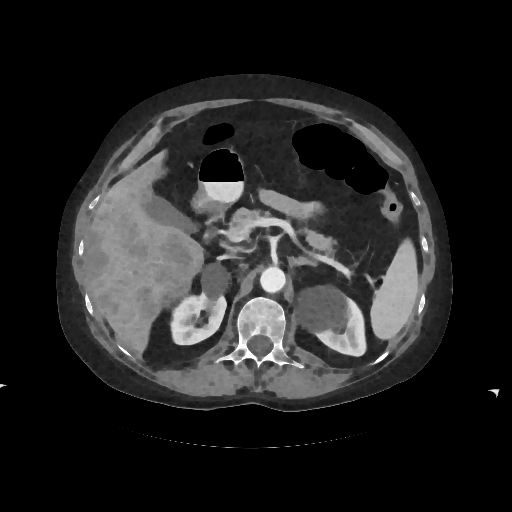Lesion: (194, 257, 231, 303)
